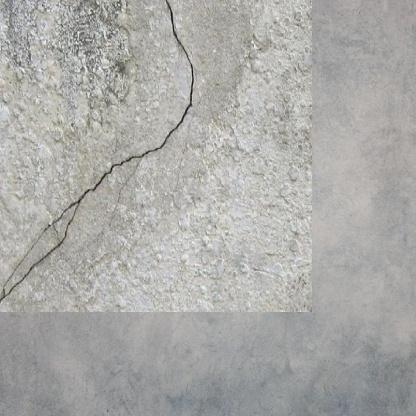Cracks: (0, 0, 183, 288)
